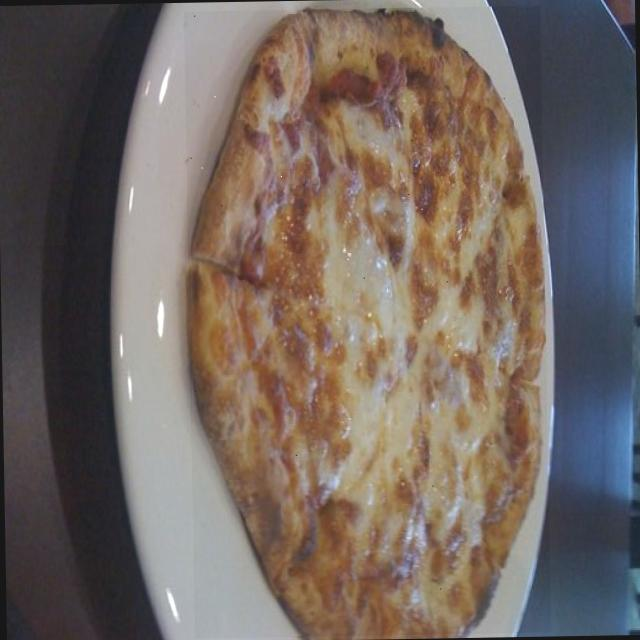pizza: (188, 10, 543, 635)
